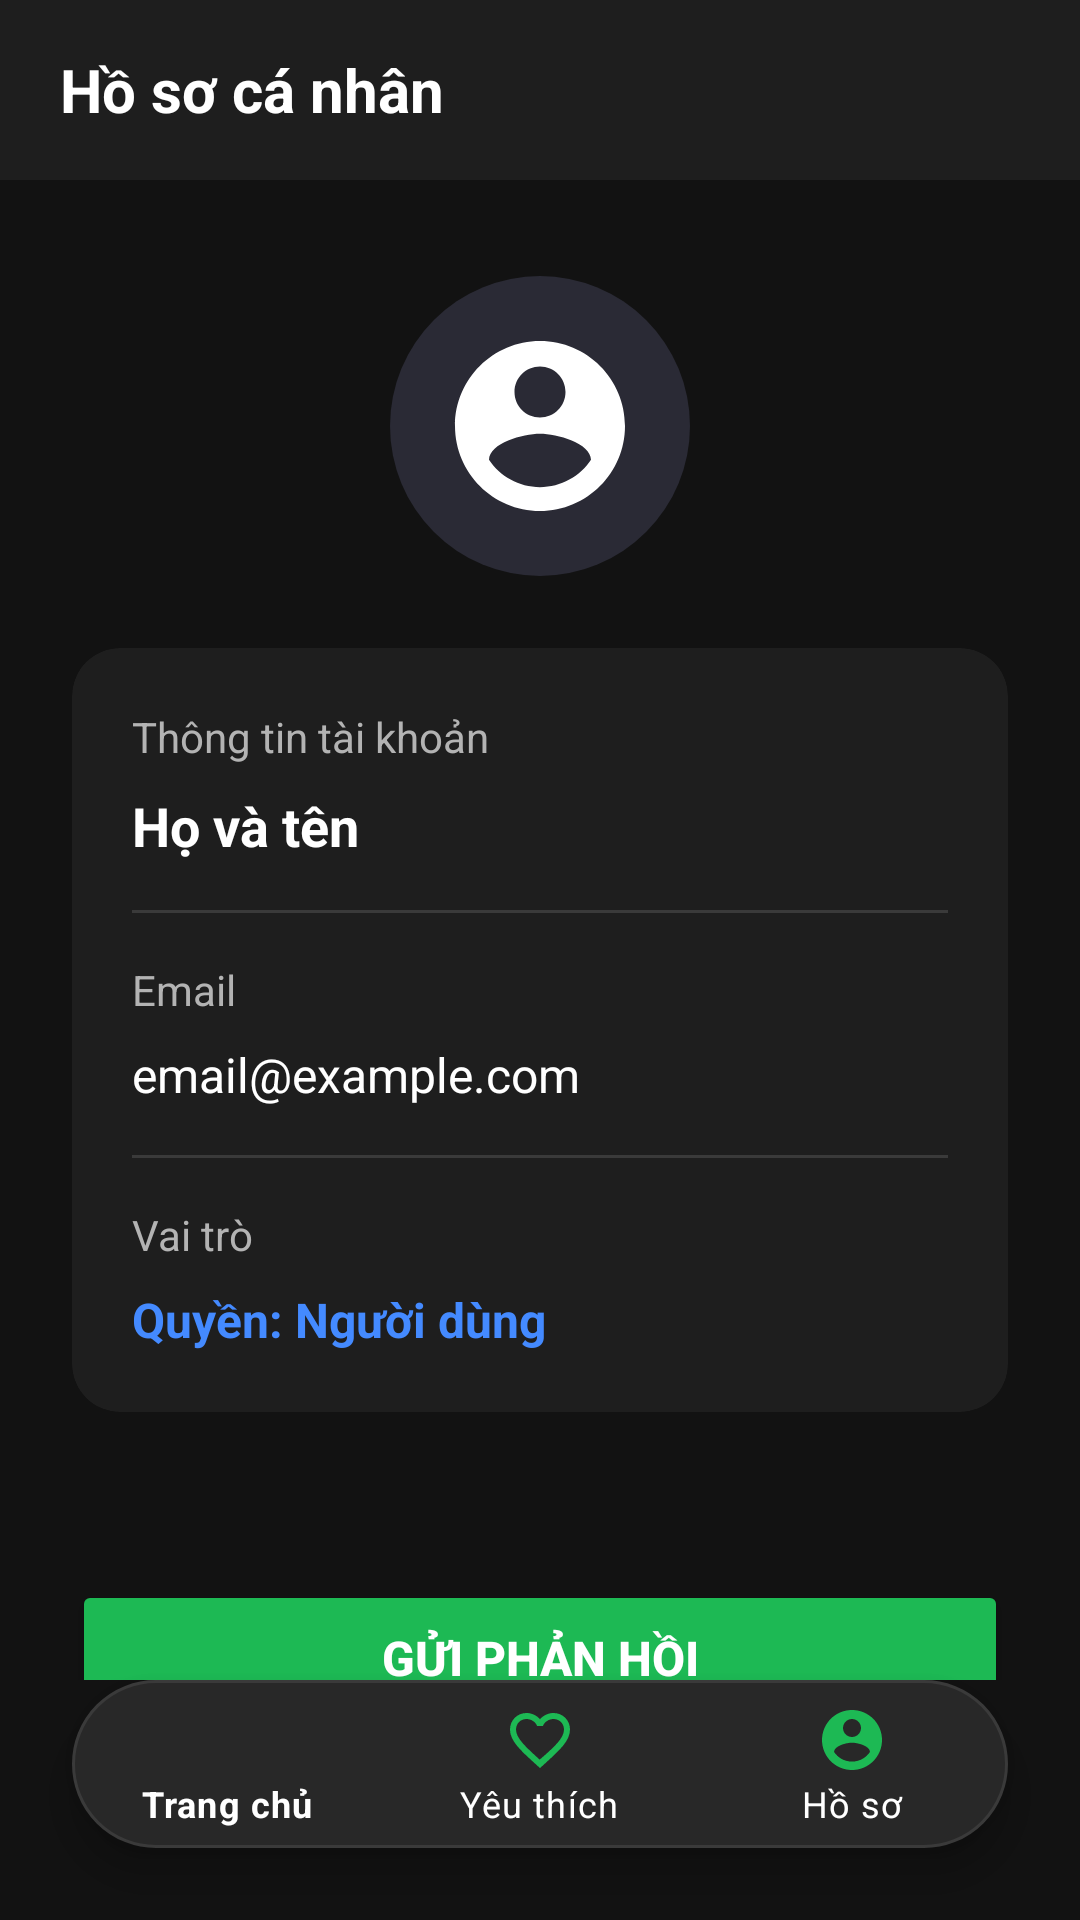

Icons on this 1080w x 1920h Android screen, each with the point to tap as (x=x, y=y):
person: (x=540, y=426)
